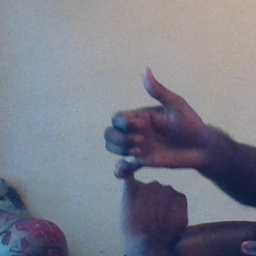S: (93, 62, 213, 227)
